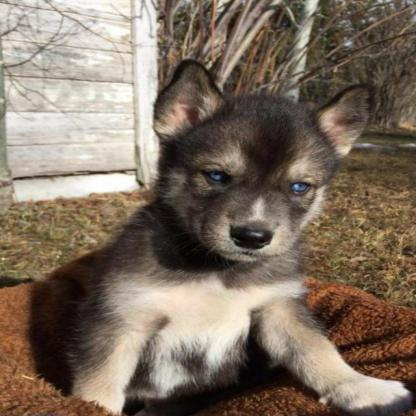husky: (37, 66, 412, 416)
